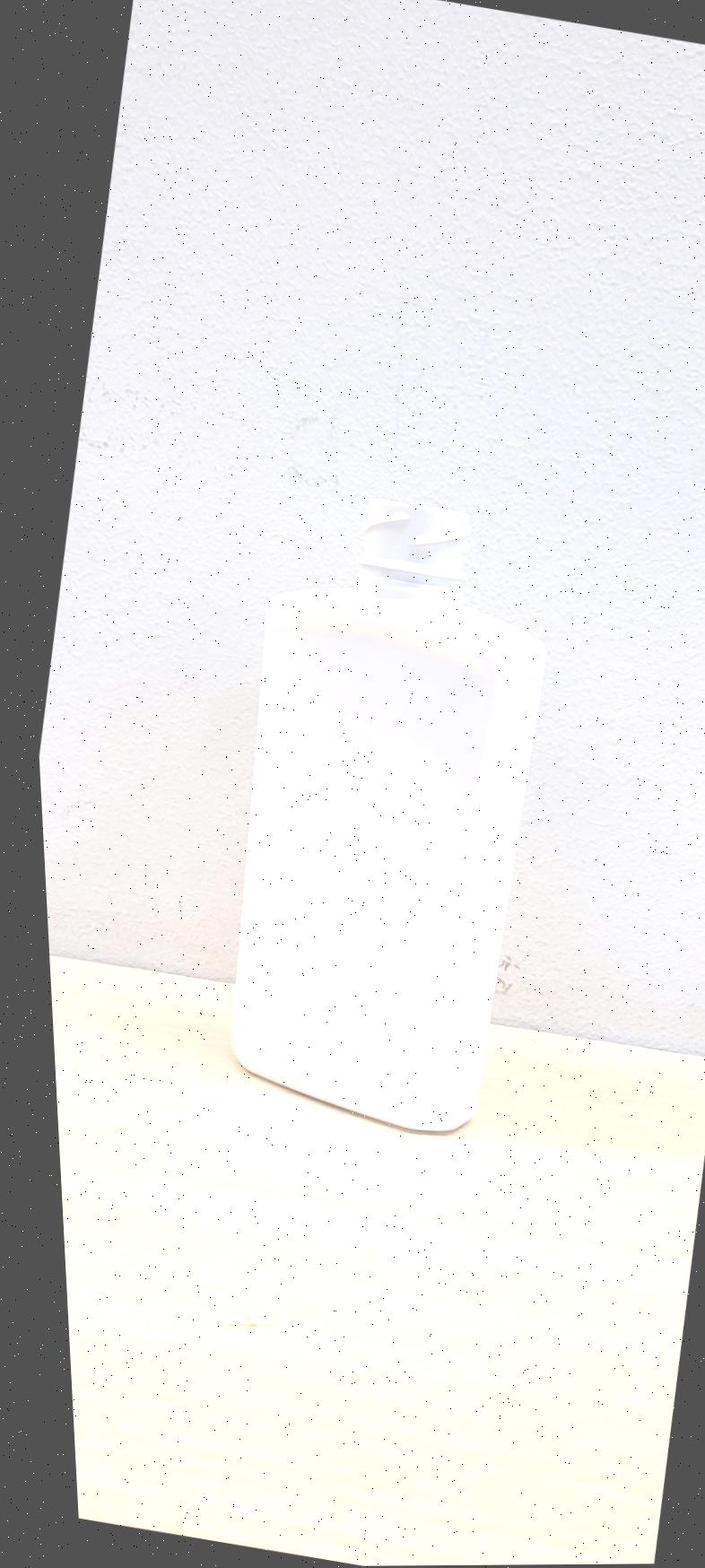bottle: (231, 497, 545, 1132)
